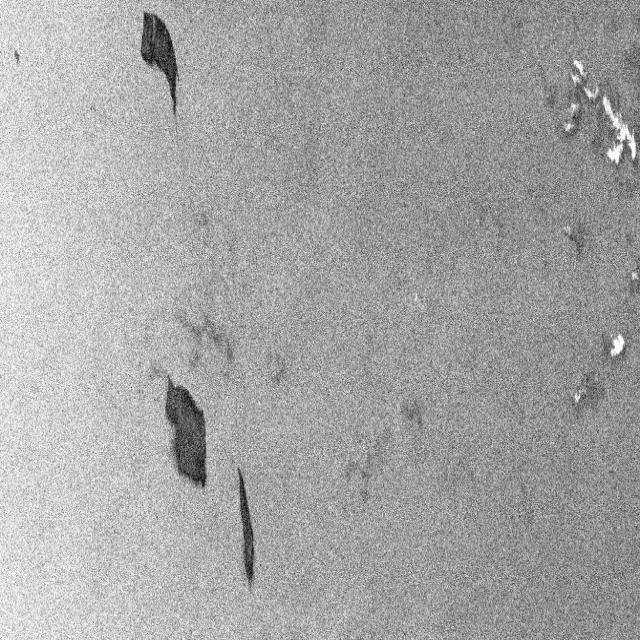oil-spill: (157, 374, 214, 492), (132, 6, 186, 119), (234, 464, 265, 595)
